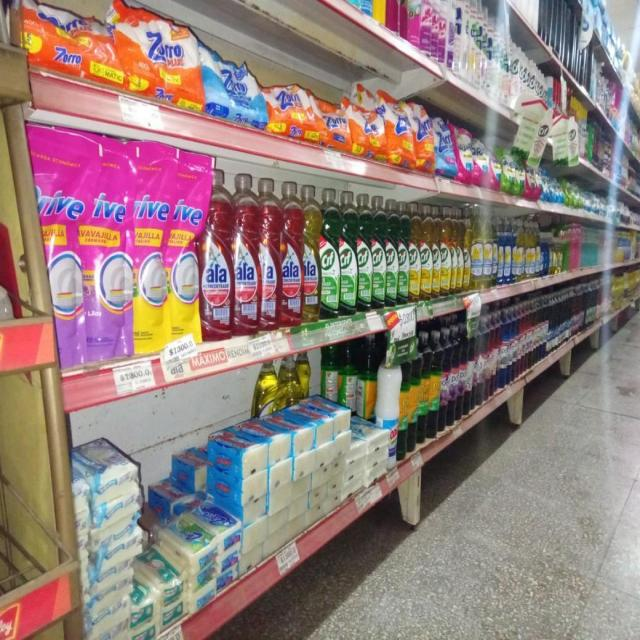ala_conc_amarillo: (302, 183, 320, 323)
ala_conc_rojo: (201, 168, 233, 342), (233, 172, 260, 336), (280, 181, 302, 328), (260, 176, 280, 332)
cif_conc_bot_amarilla: (421, 206, 432, 300), (410, 202, 420, 302), (441, 212, 451, 297), (432, 207, 440, 298), (451, 212, 459, 294), (463, 215, 471, 292), (456, 214, 463, 294)
cif_conc_botella_verde: (321, 186, 339, 318), (340, 189, 356, 315), (358, 192, 372, 312), (372, 195, 386, 309), (386, 198, 397, 306), (398, 200, 409, 305)
